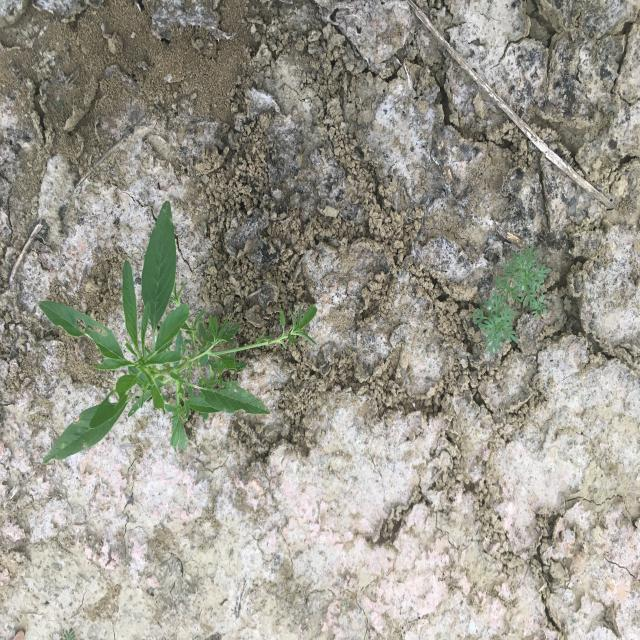Ragweed: (471, 241, 552, 360)
Waterhemp: (37, 199, 319, 465)
